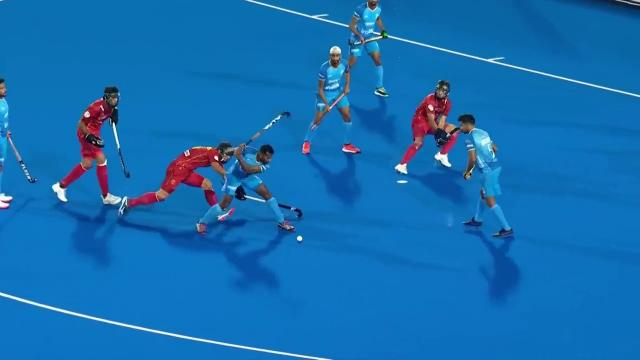ball: (294, 233, 306, 245)
